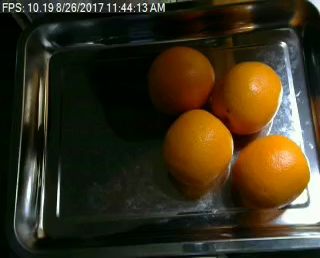Orange: (232, 135, 312, 209), (163, 108, 234, 189), (216, 60, 285, 134), (149, 48, 215, 110)
